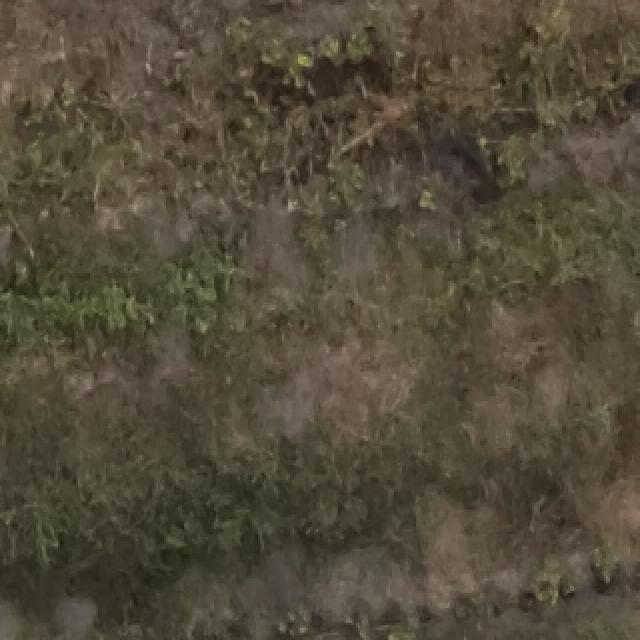strawberry-plant: (256, 31, 328, 112), (328, 16, 399, 76), (88, 280, 166, 334), (577, 535, 630, 596), (526, 564, 564, 630), (276, 591, 322, 640), (462, 586, 496, 640), (413, 176, 454, 218), (388, 608, 440, 640), (338, 600, 376, 640)
